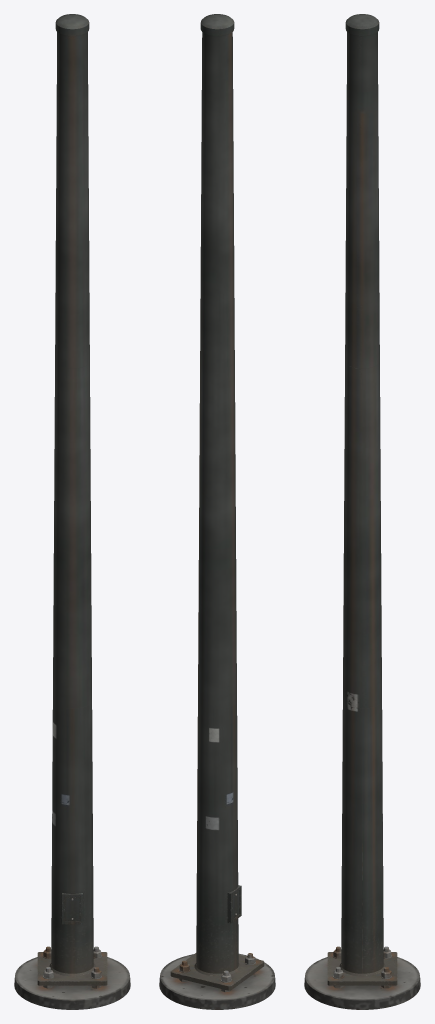
File: mastPole-v1.glb
The picture shows the model from 3 angles, left to right: view 1: azimuth 90°, elevation 25°; view 2: azimuth 150°, elevation 25°; view 3: azimuth 270°, elevation 25°; orthographic projection.
Parts seen in each view (by area): view 1: mastPole-v1; view 2: mastPole-v1; view 3: mastPole-v1.
Boxes of the visible parts, x1,y1,x2,y2 form: mastPole-v1: (14, 14, 130, 1009); mastPole-v1: (159, 14, 275, 1009); mastPole-v1: (304, 14, 420, 1009).
Size of the model in its own units: 0.762 by 6.99 by 0.762.
Materials: 1 (1 with a texture image).
